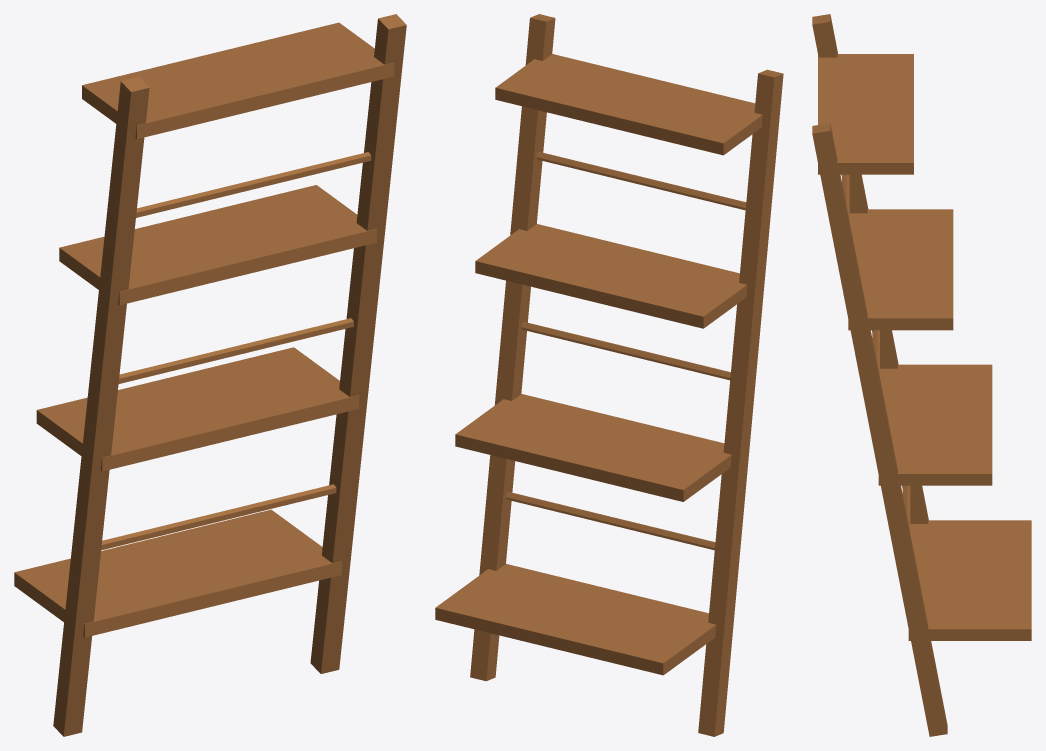
The model's file is SM_LPI_Storage_Bookcase_08.fbx.
The picture shows the model from 3 angles, left to right: view 1: azimuth 30°, elevation 25°; view 2: azimuth 150°, elevation 25°; view 3: azimuth 270°, elevation 25°; orthographic projection. The views are drawn at different scales.
Parts seen in each view (by area): view 1: SM_LPI_Storage_Bookcase_08; view 2: SM_LPI_Storage_Bookcase_08; view 3: SM_LPI_Storage_Bookcase_08.
Part boxes in pixels (box(x1,y1,x2,y2)): SM_LPI_Storage_Bookcase_08: box(14, 14, 406, 736); SM_LPI_Storage_Bookcase_08: box(435, 14, 783, 736); SM_LPI_Storage_Bookcase_08: box(812, 14, 1031, 736).
Bounding box in the file's own units: 0.72 × 1.74 × 0.5714.
